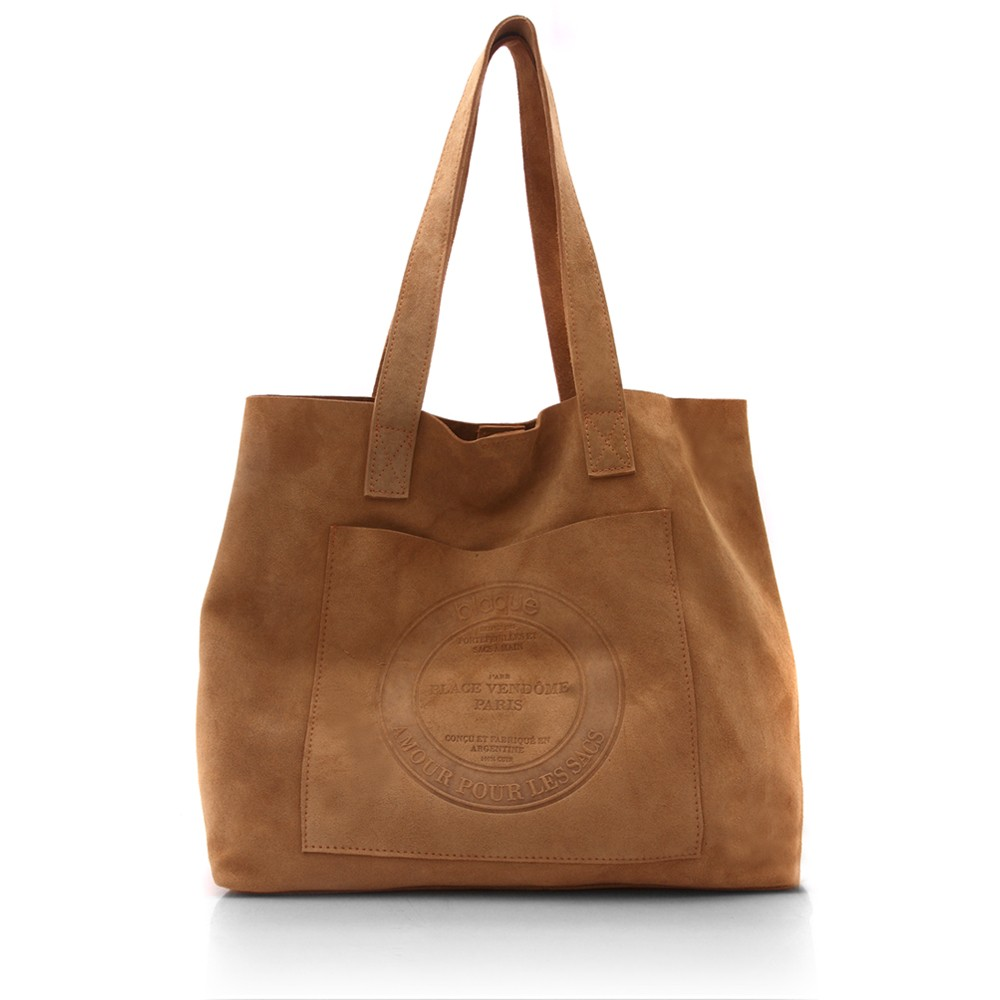cartera: (119, 1, 914, 948)
gamuza: (232, 589, 428, 763)
